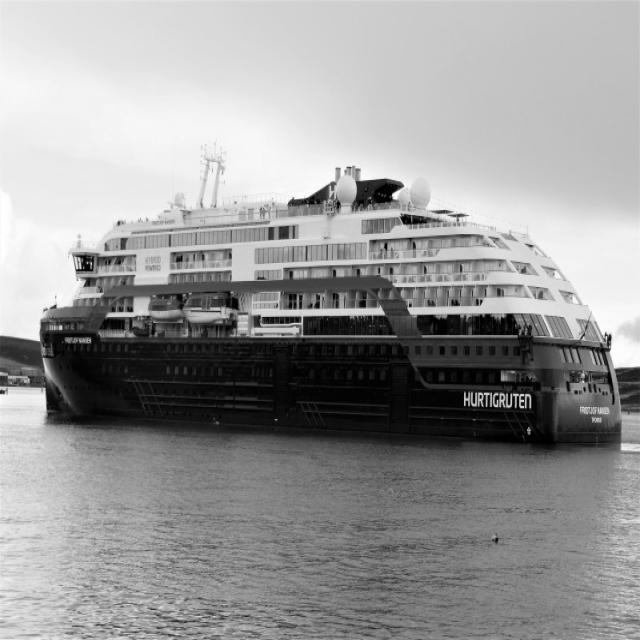cruises: (34, 161, 632, 453)
